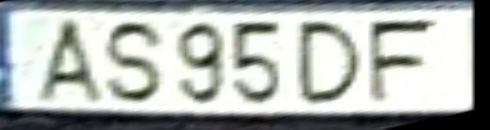5: (228, 20, 284, 107)
9: (173, 20, 229, 107)
A: (33, 17, 109, 106)
D: (297, 20, 366, 106)
F: (367, 20, 435, 105)
S: (103, 21, 167, 106)
